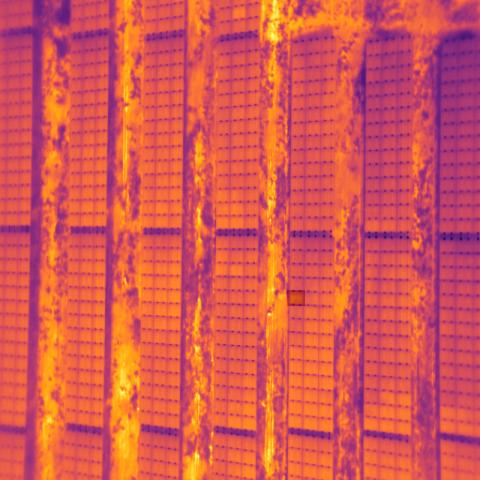fault: (287, 290, 305, 306)
